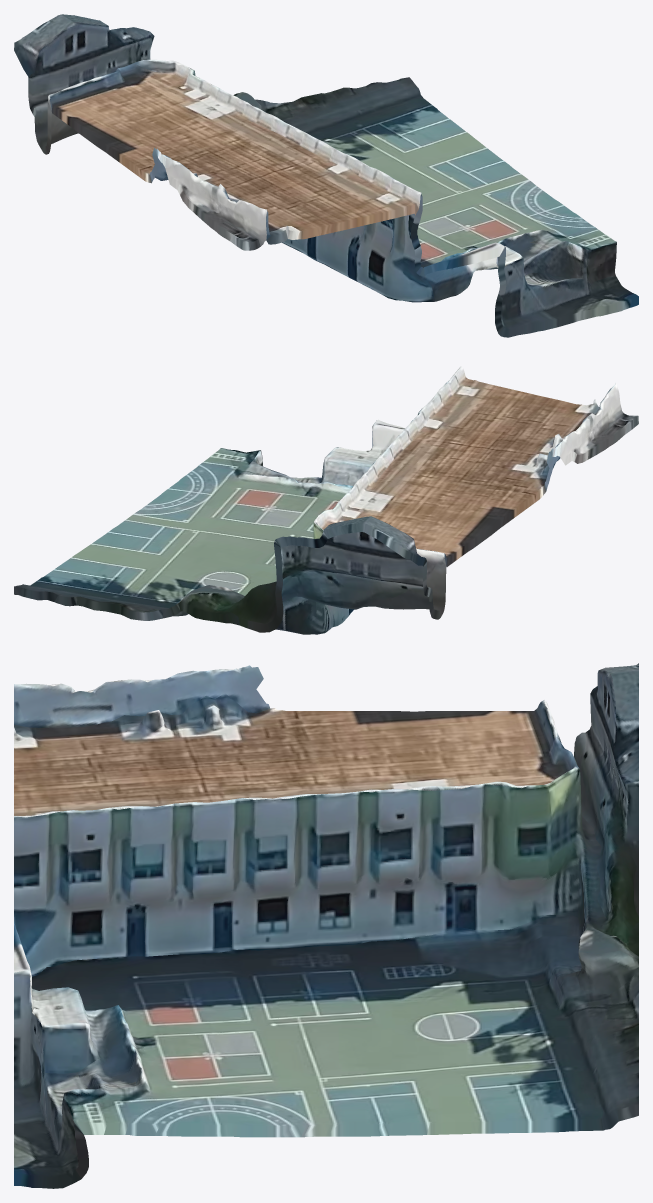
The model's file is z20-167723-405196-h0-yup-uvflip-v3-world.glb.
The picture shows the model from 3 angles, top to bottom: view 1: azimuth 30°, elevation 25°; view 2: azimuth 150°, elevation 25°; view 3: azimuth 270°, elevation 25°; orthographic projection. The views are drawn at different scales.
Size of the model in its own units: 30.2 by 15.36 by 30.32.
Materials: 1 (1 with a texture image).
